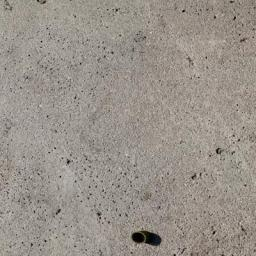FOD: (130, 226, 163, 250)
